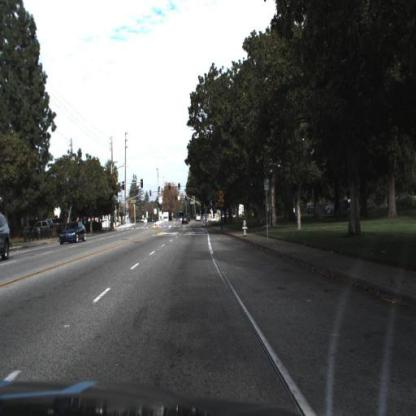car: (0, 201, 12, 264), (59, 220, 87, 245), (178, 212, 189, 228), (192, 211, 200, 225)
trafficLight-Green: (176, 181, 180, 192)
